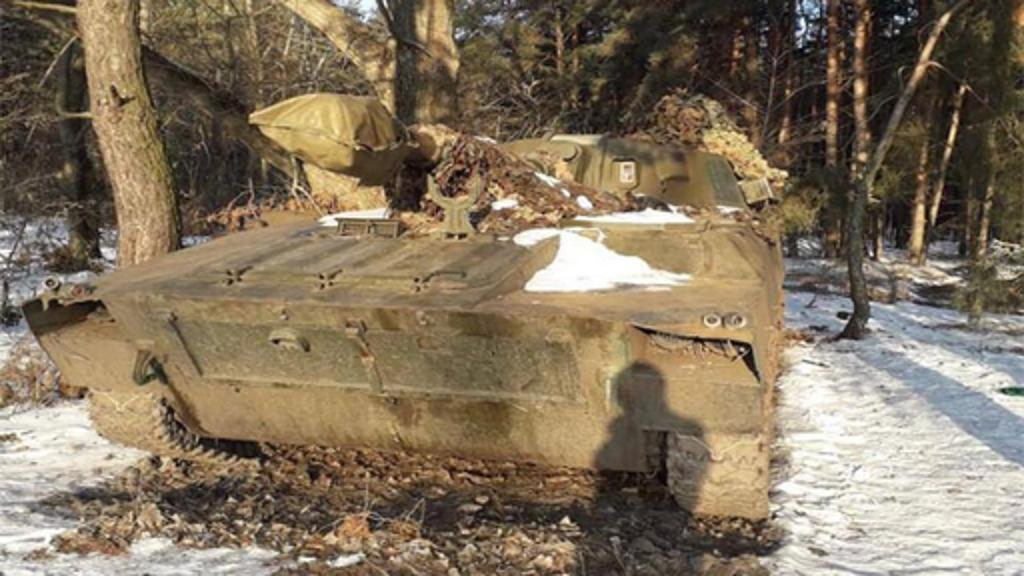ART: (20, 118, 786, 534)
